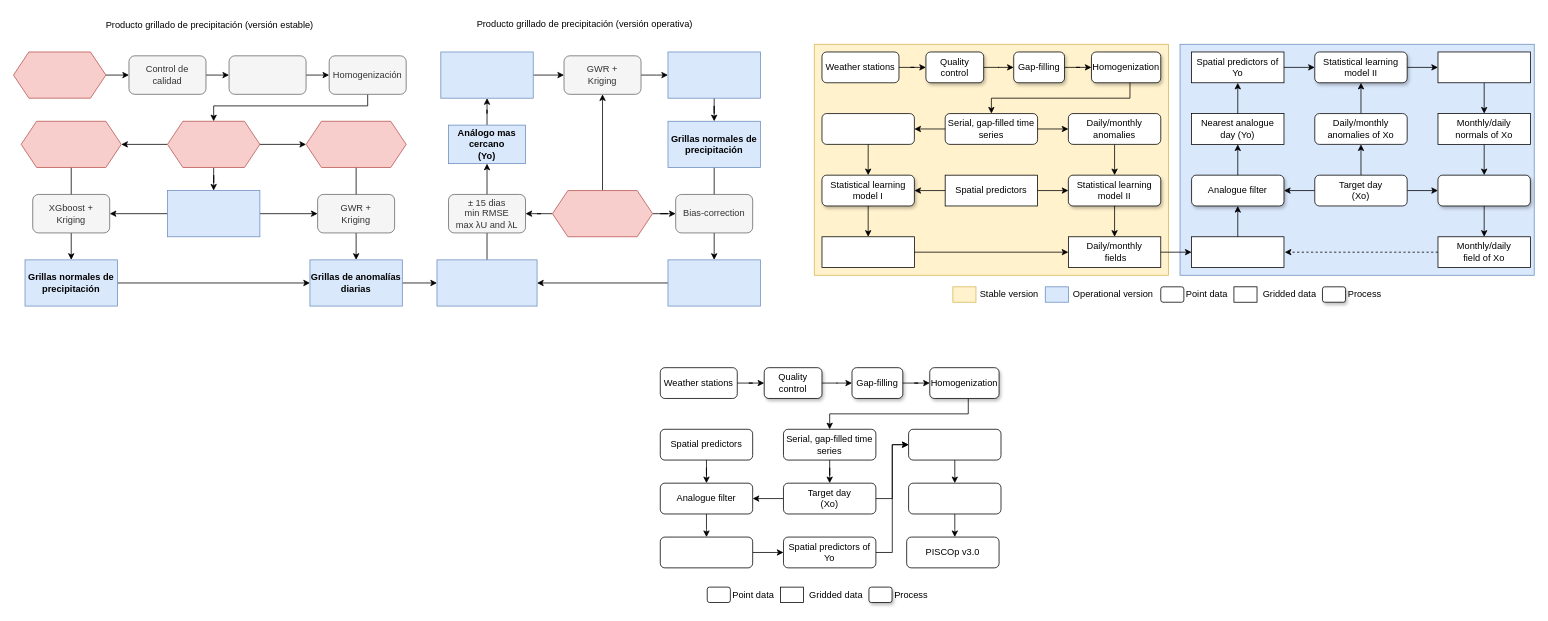
Some shapes in this 1548 by 621 pixel diagram are drawn without their labels. Each missing label, with the centre of its shape:
Analogue days (Yo): [706,552]
Anomalías: [355,144]
Bias correction: [1484,191]
Covariables de Yo: [486,74]
Covariables: met. de reanalisis, pre. de satellite y var. topograficas: [213,213]
Daily field of Xo: [954,498]
Daily/monthly anomalies field of Xo: [1483,67]
Día objetivo (Xo): [602,213]
Estaciones meteorológicas: [59,74]
Grillas de anomalía diaria de Xo: [713,74]
Grillas de precipitación diaria de Xo: [713,282]
Monthly/daily normals: [867,128]
Monthly/daily normals fields: [867,252]
Normales mensuales/diarios: [70,144]
PISCOp v 2.2 1981-2020 (Yj): [486,282]
PISCOp v2.2 (Yj): [1237,252]
Reconstrucción: [267,74]
Series de precipitación completas: [213,144]
Statistical learning model: [954,444]
